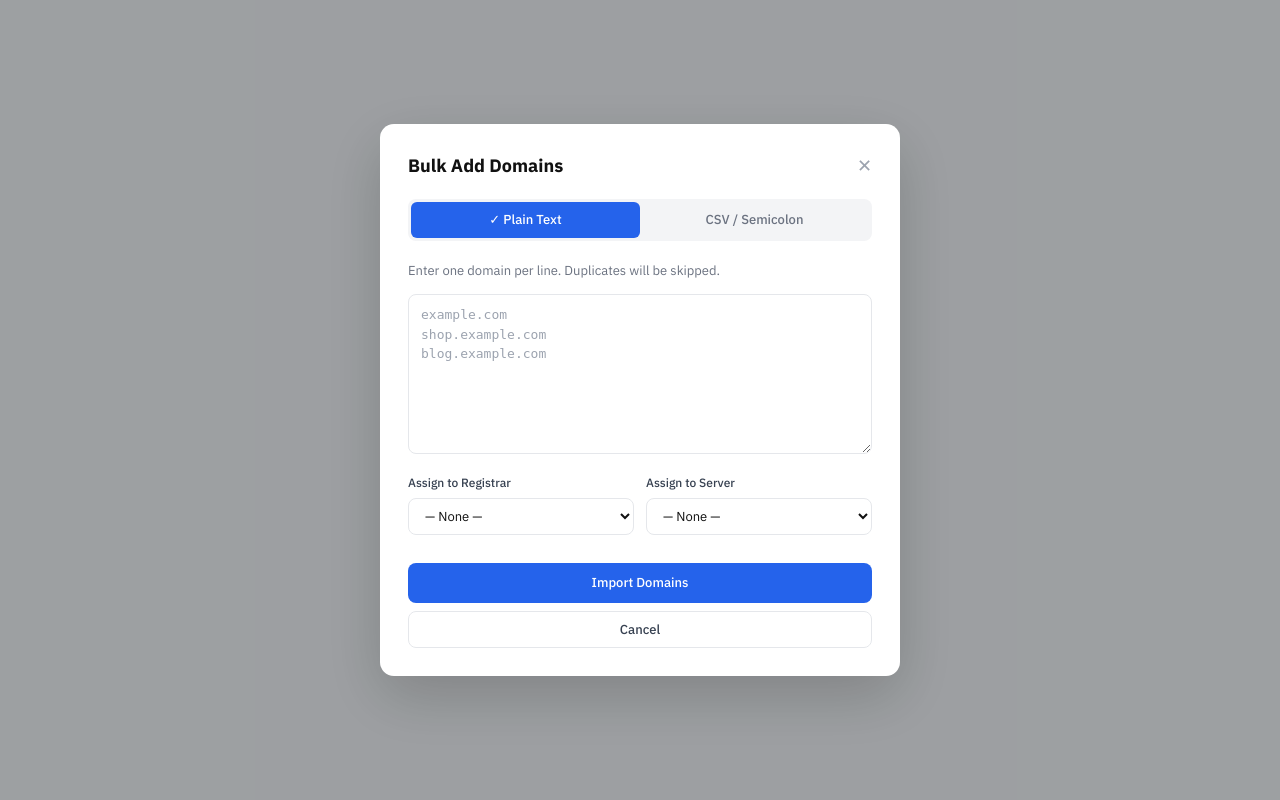
Scenario: BulkAddDialog › правка текста гасит список: он приговор прошлому тексту
Click the button "CSV / Semicolon": (754, 220) [640,202,869,238]
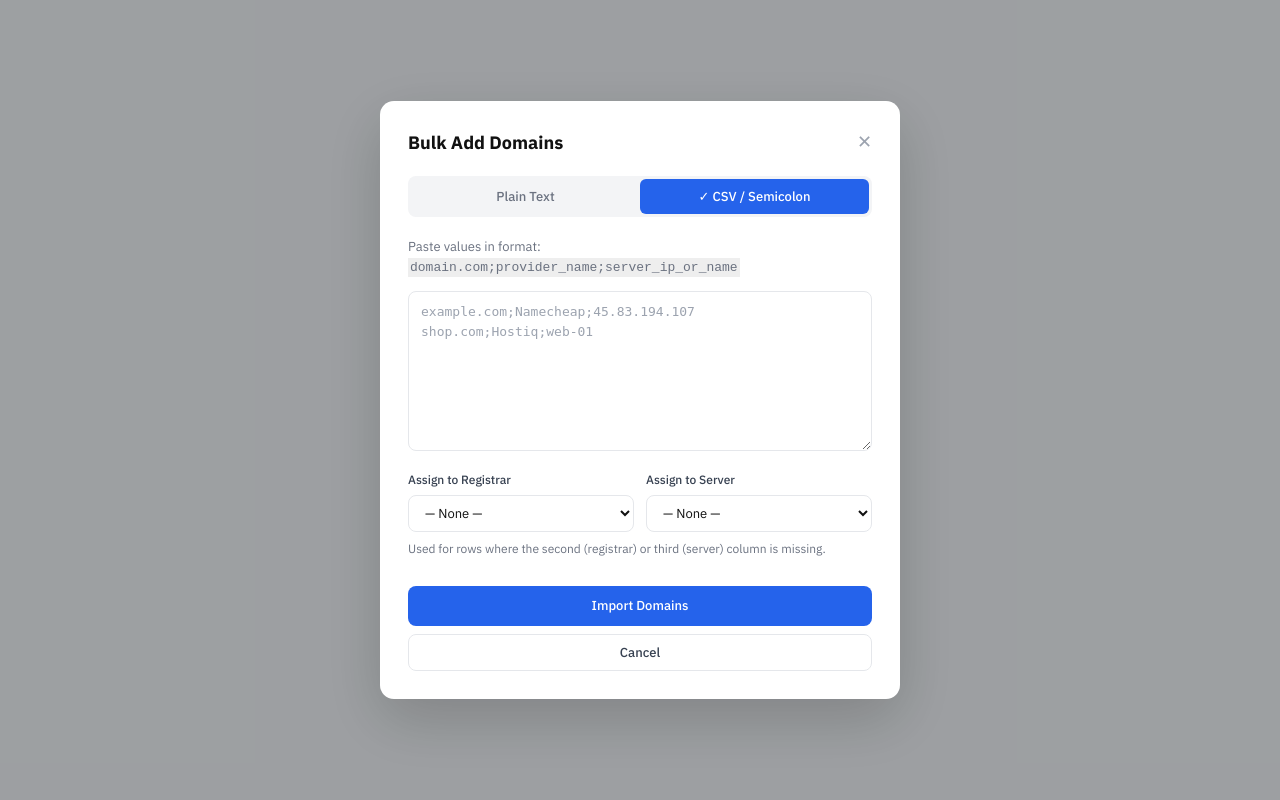
In the text box with placeholder "example.com;Namecheap;45.83.194.107 shop.com;Hostiq;web-01": (640, 371) [408,291,872,451], type "shop.com;Hostiq;1.2.3.4"
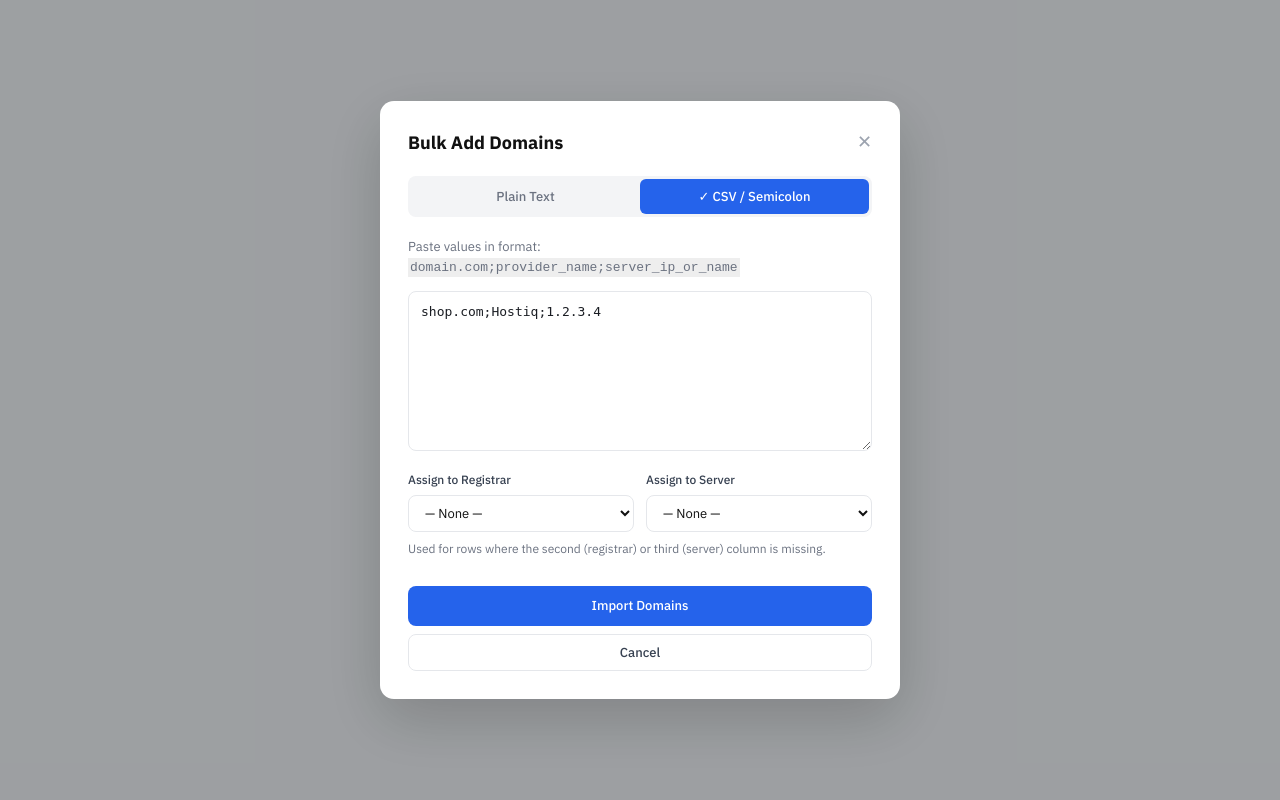
Click the button "Import Domains": (640, 606) [408,586,872,626]
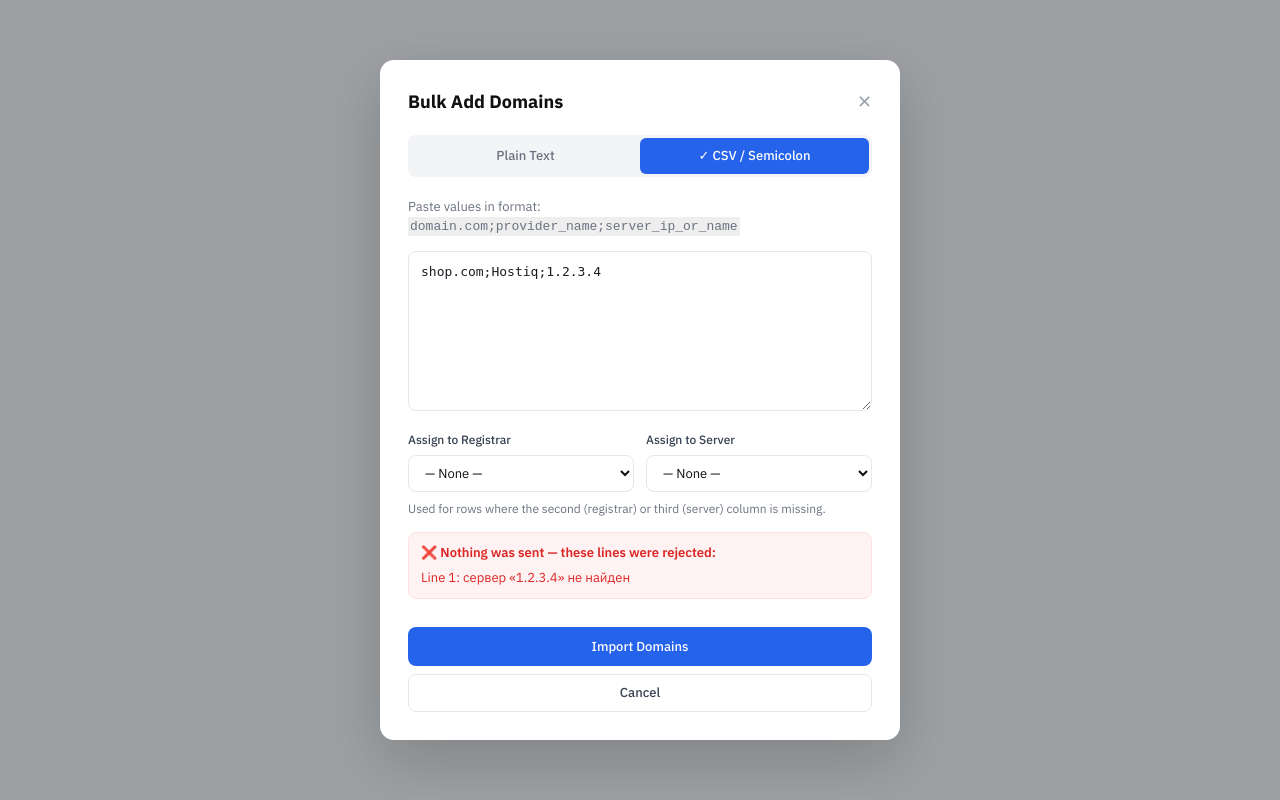
Now the text "Line 1: сервер «1.2.3.4» не найден" is shown, box [421,569,630,586]
Replace the text in the text box with placeholder "example.com;Namecheap;45.83.194.107 shop.com;Hostiq;web-01" with "shop.com;Hostiq;web-01": (640, 331) [408,251,872,411]
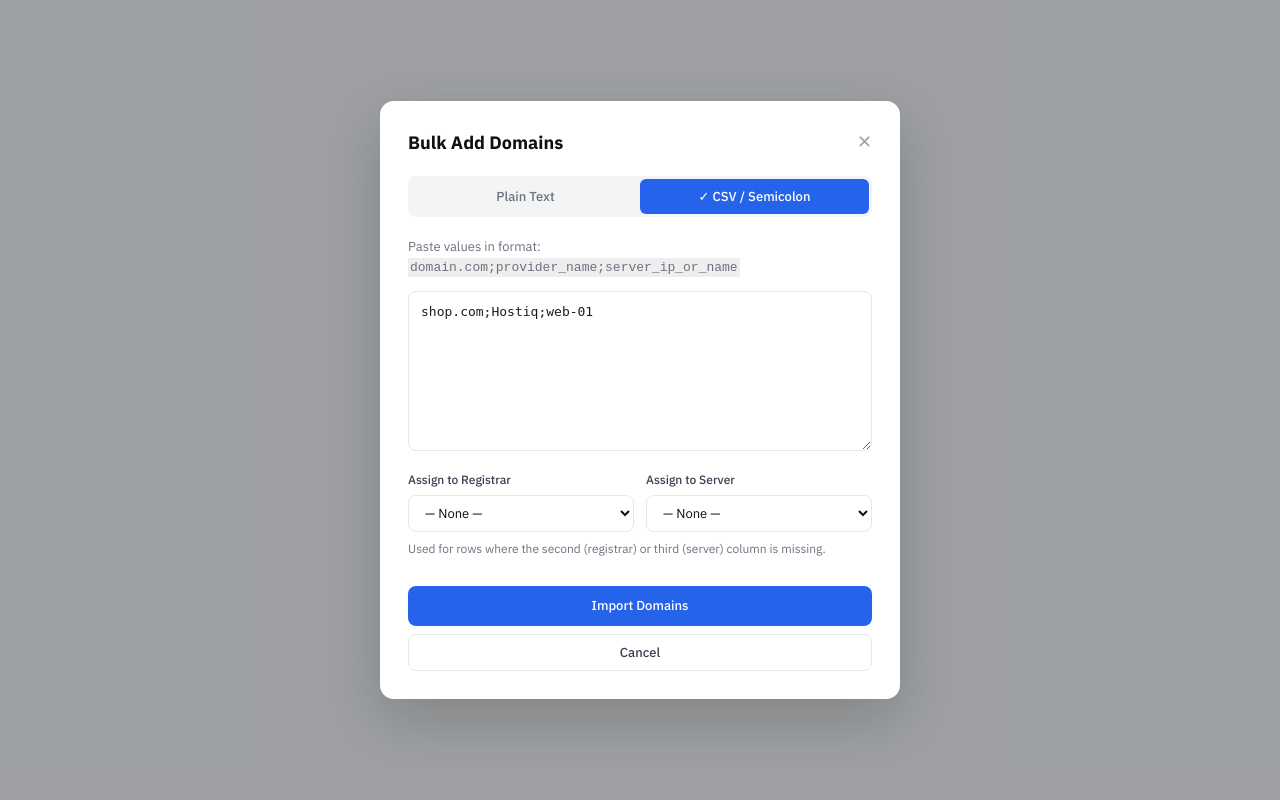
Now the text "Line 1" is gone
